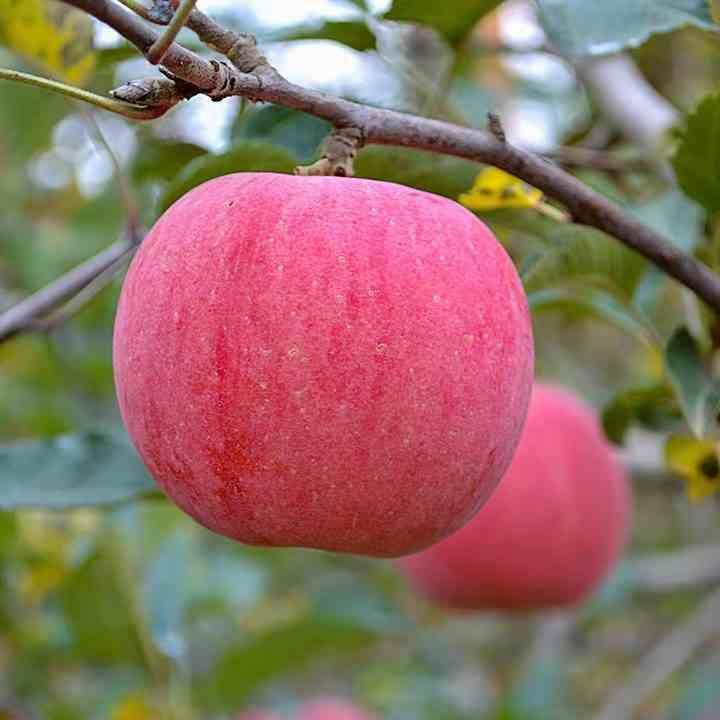apple: (110, 165, 538, 570), (401, 378, 631, 617)
